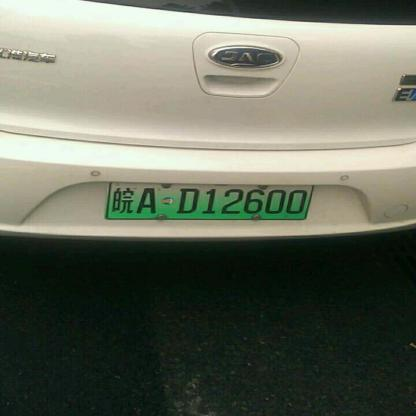lp: (107, 183, 314, 219)
